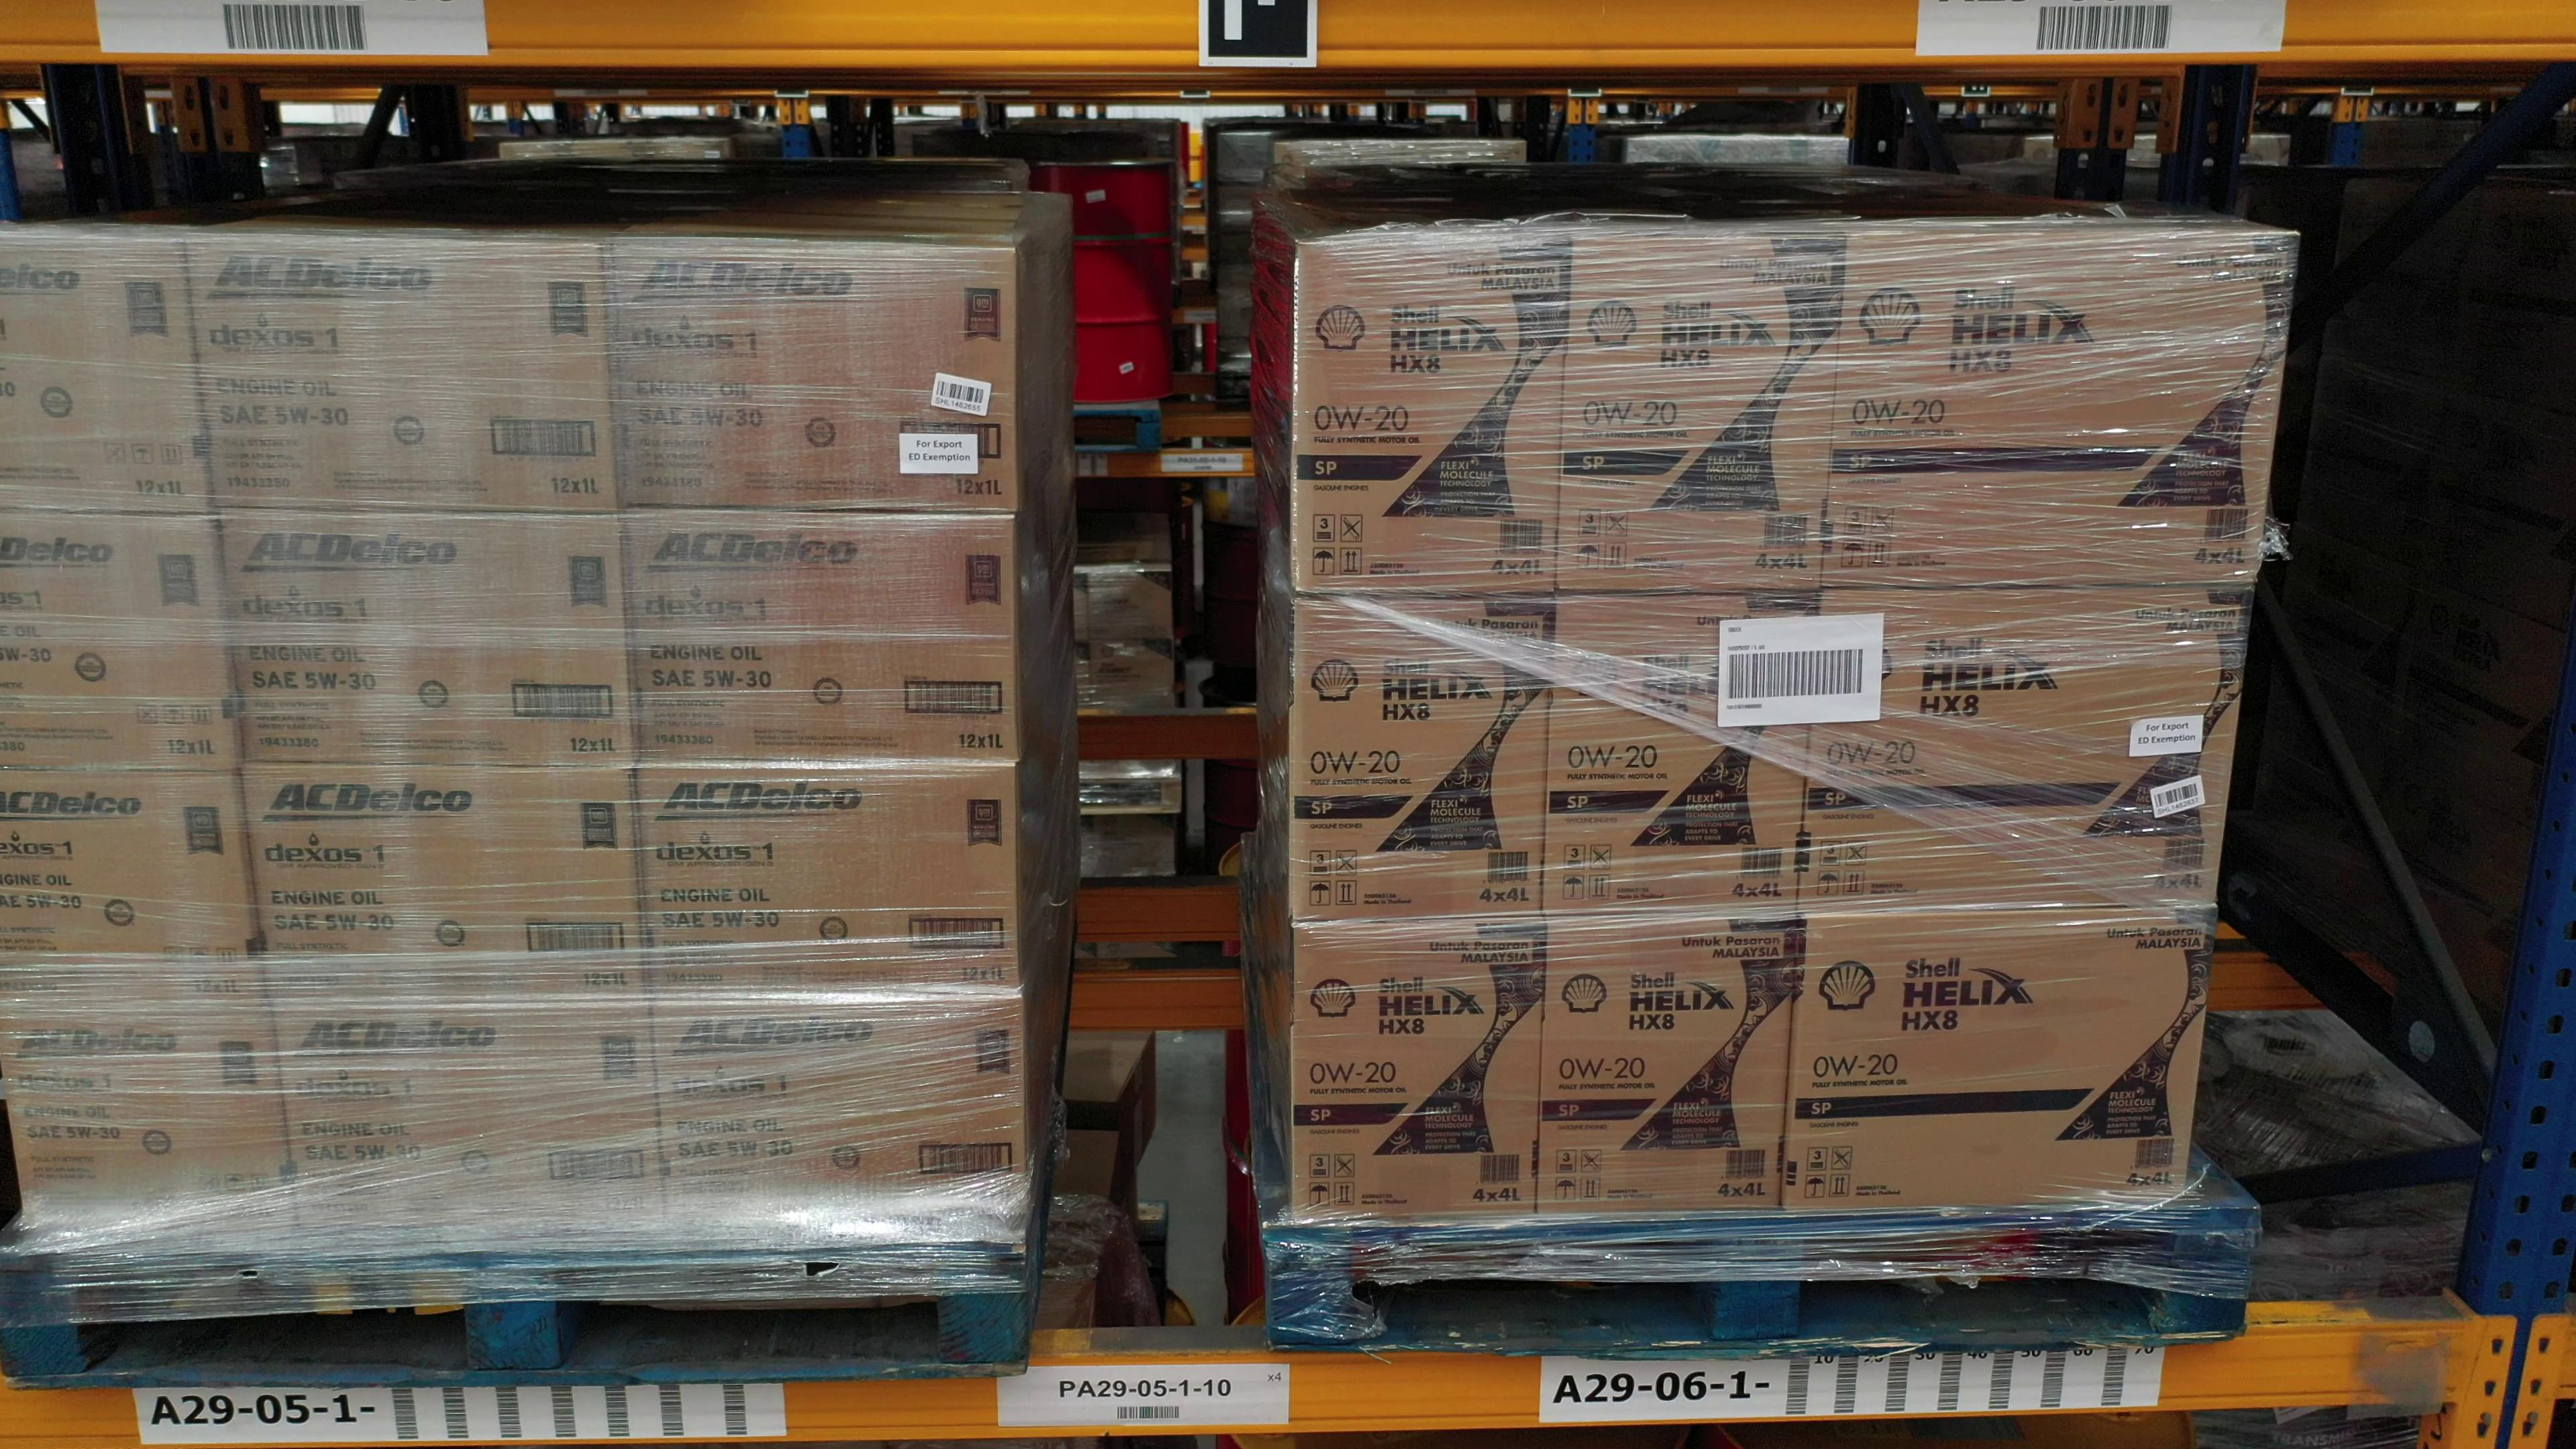-: (1828, 228, 2302, 584), (1798, 584, 2254, 913), (1782, 906, 2213, 1214), (186, 235, 617, 515), (616, 237, 1016, 515), (218, 508, 633, 764), (1560, 232, 1849, 591), (1293, 235, 1573, 602), (626, 506, 1016, 763), (241, 764, 649, 1003), (271, 1000, 663, 1235), (637, 761, 1019, 1000), (1543, 591, 1821, 913), (649, 1000, 1024, 1228), (1290, 594, 1553, 918), (1534, 915, 1798, 1219), (1290, 922, 1545, 1226), (0, 1003, 295, 1235), (0, 770, 269, 1010), (0, 510, 237, 771), (0, 239, 214, 517)
